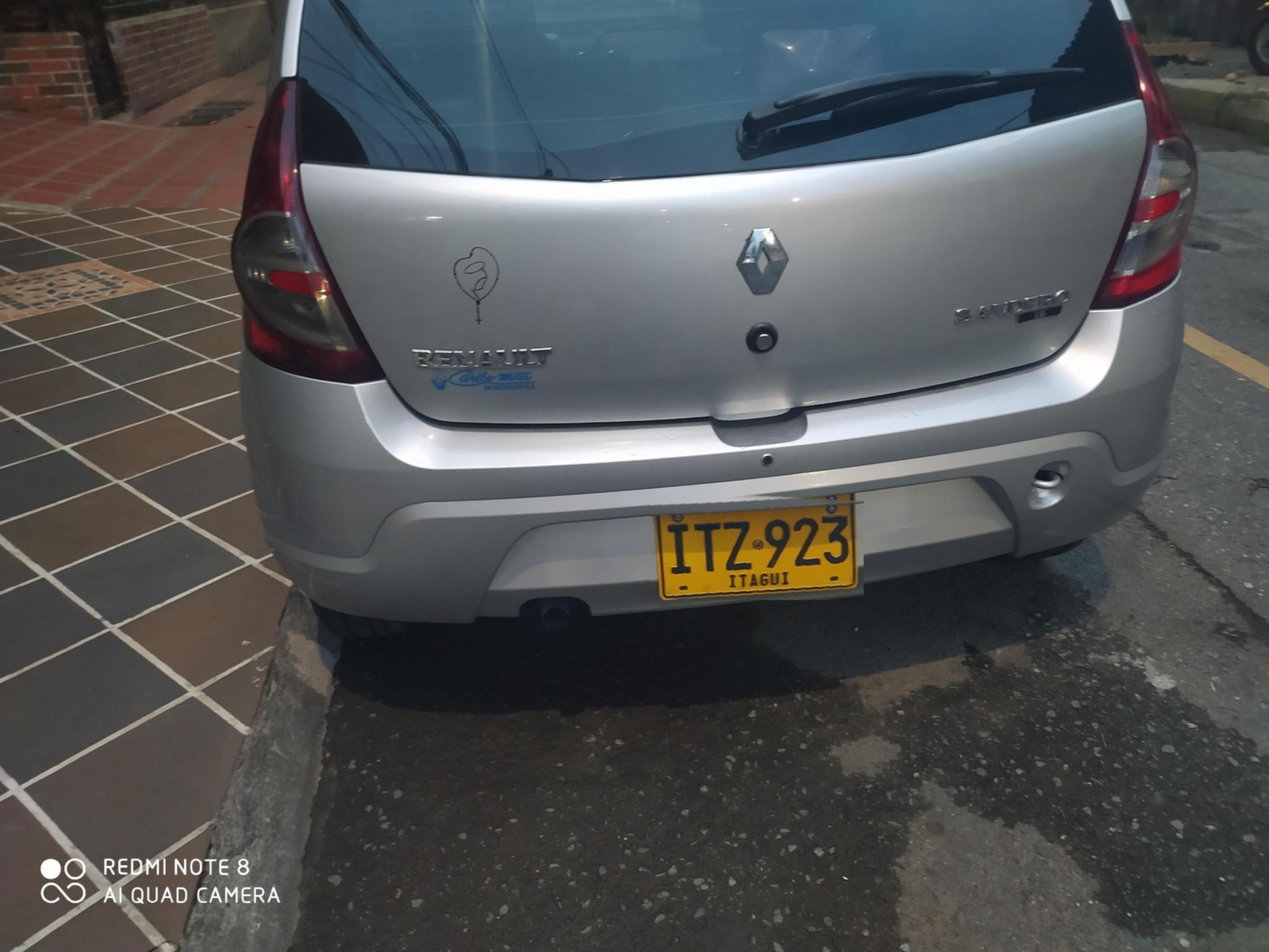placa: (645, 489, 864, 600)
